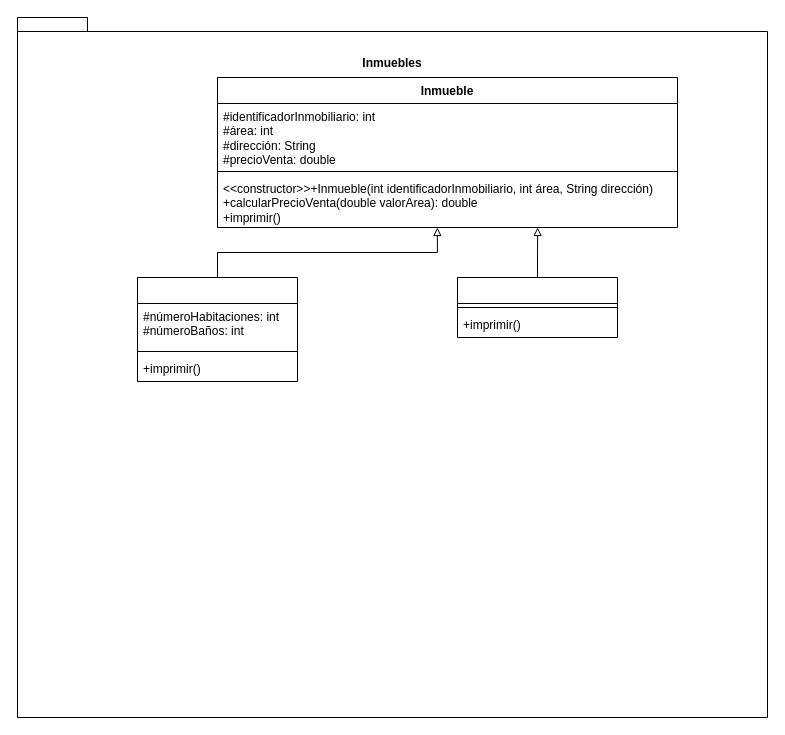
Some shapes in this 785 by 735 pixel diagram are drawn without their labels. The box of each missing label's shape, as (x1, y1, x2, y2) in pixels:
InmuebleVivienda: (136, 276, 298, 382)
Local: (456, 276, 618, 338)
